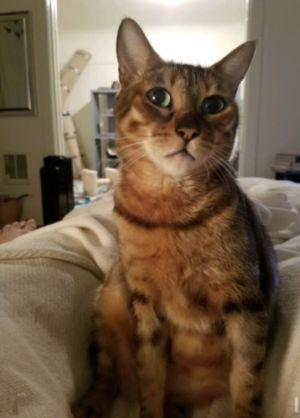bengal: (106, 10, 273, 188)
